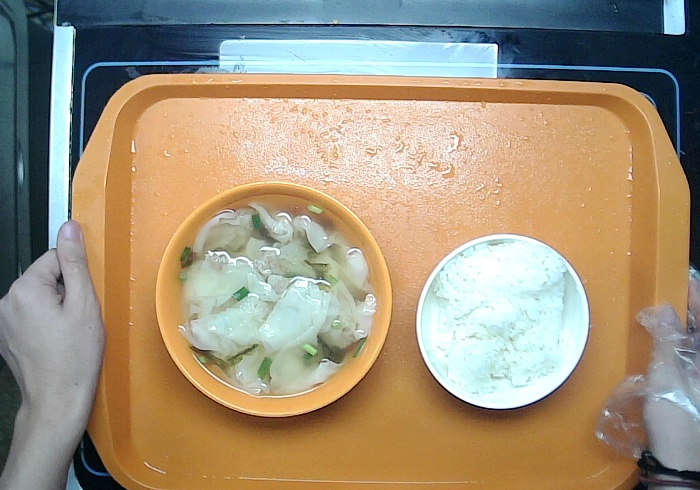NLDX-Fan_Wan: (413, 229, 592, 411)
NLDX-Hun_Tun_Wan: (153, 175, 395, 423)
